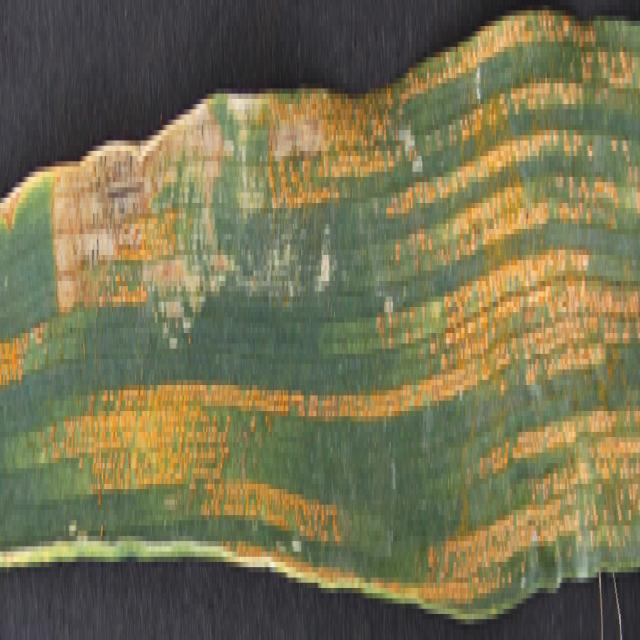leaf rust: (1, 6, 638, 624)
